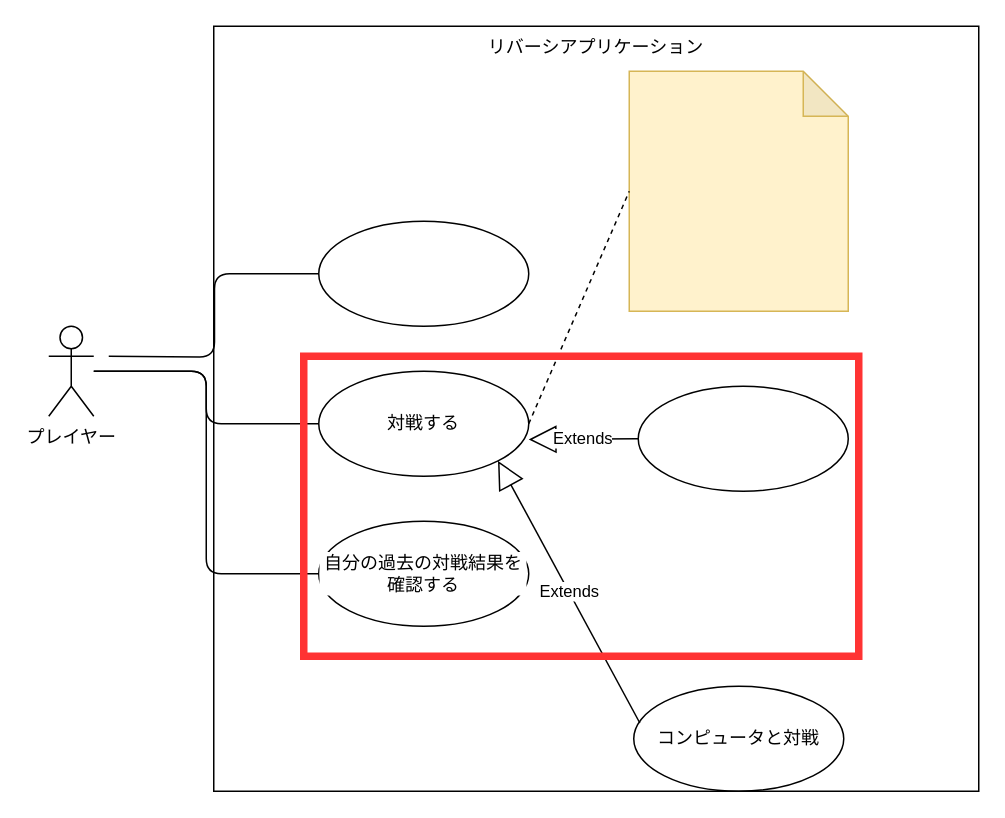
Some shapes in this 1005 by 818 pixel diagram are drawn without their labels. Each missing label, with the centre of its shape:
"一人で対戦" belongs at [742,438].
"会員登録・ログインする" belongs at [423,273].
"対戦を開始する 盤面を見る 石を打つ 勝敗を確認する" belongs at [738,190].
